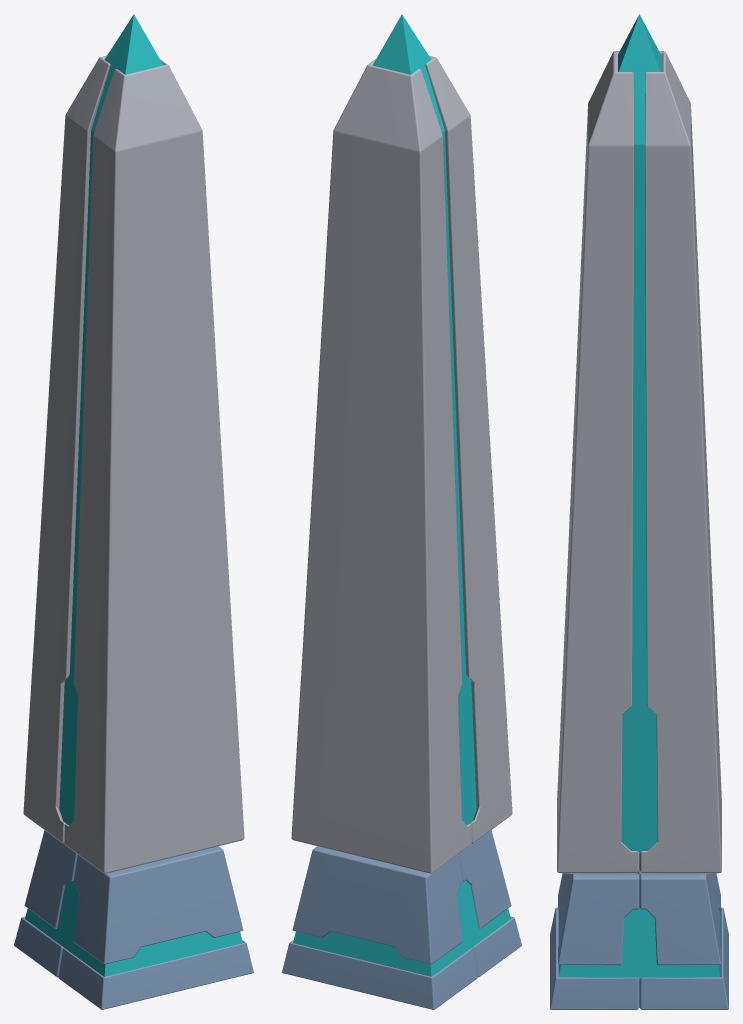
The model's file is obelisk_E.fbx.
3 views of the same model, side by side, from view 1: azimuth 30°, elevation 25°; view 2: azimuth 150°, elevation 25°; view 3: azimuth 270°, elevation 25° (orthographic).
Visible parts, largest first — view 1: obelisk_E_LOD0; view 2: obelisk_E_LOD0; view 3: obelisk_E_LOD0.
Boxes of the visible parts, x1=… form: obelisk_E_LOD0: x1=14, y1=14, x2=253, y2=1009; obelisk_E_LOD0: x1=282, y1=14, x2=521, y2=1009; obelisk_E_LOD0: x1=550, y1=14, x2=728, y2=1009.
Size of what is drawn, in the model's own units: 199 by 1179 by 199.
